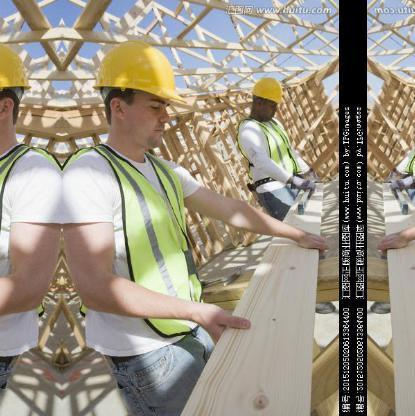helmet: (94, 35, 190, 111), (242, 74, 283, 110)
